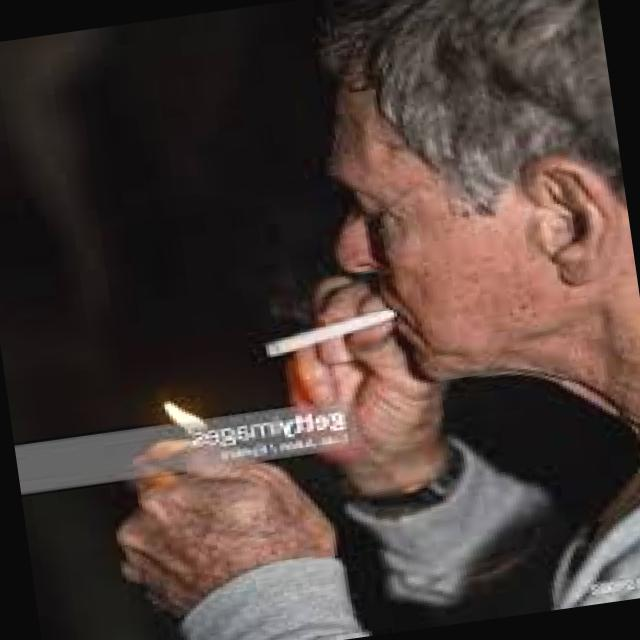cigarette: (257, 298, 406, 366)
